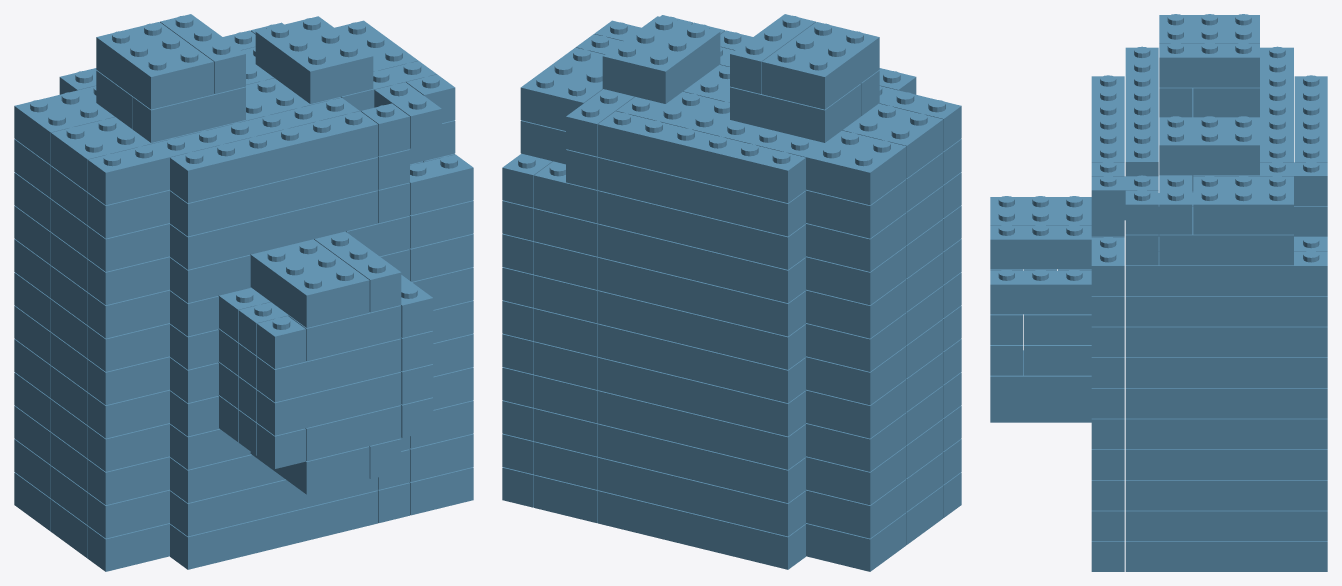
Rendered from 121_camera_L1.glb.
3 views of the same model, side by side, from view 1: azimuth 30°, elevation 25°; view 2: azimuth 150°, elevation 25°; view 3: azimuth 270°, elevation 25° (orthographic). The views are drawn at different scales.
Bounding box in the file's own units: 10.98 × 14.13 × 9.98.
